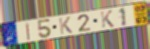1: (118, 6, 129, 27)
2: (76, 13, 92, 33)
5: (37, 17, 52, 40)
I: (25, 22, 31, 42)
K: (99, 9, 115, 29), (58, 16, 74, 35)
